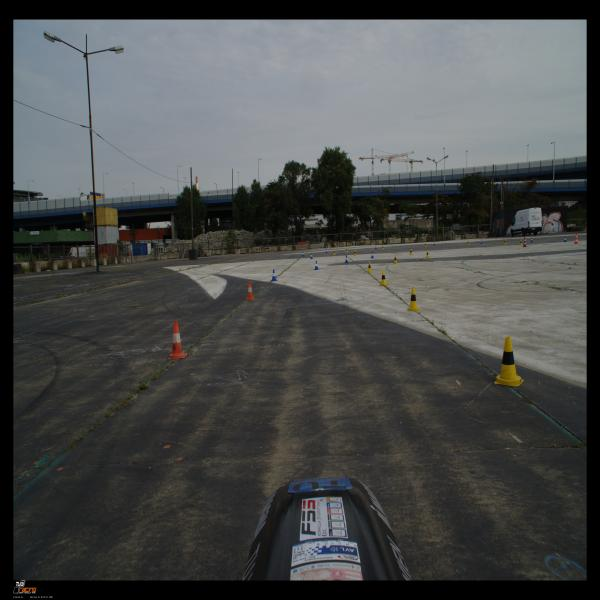blue_cone: (270, 270, 278, 281), (314, 261, 319, 270), (344, 256, 349, 264), (564, 236, 568, 242), (371, 251, 374, 258), (310, 253, 313, 259), (433, 241, 436, 246), (480, 239, 483, 244), (302, 252, 305, 256), (325, 249, 328, 253), (530, 238, 533, 242), (375, 245, 377, 249)
large_orange_cone: (522, 237, 528, 247), (574, 233, 579, 244)
orange_cone: (168, 320, 188, 359), (245, 281, 256, 300)
yellow_cone: (494, 337, 524, 386), (407, 287, 420, 311), (379, 271, 388, 286), (366, 262, 372, 273), (393, 255, 398, 264), (426, 250, 430, 258), (409, 249, 413, 255), (354, 250, 357, 256), (333, 250, 336, 255), (381, 245, 384, 250), (424, 243, 427, 247), (467, 241, 470, 245), (520, 240, 522, 245), (346, 248, 348, 252), (504, 240, 506, 244)
